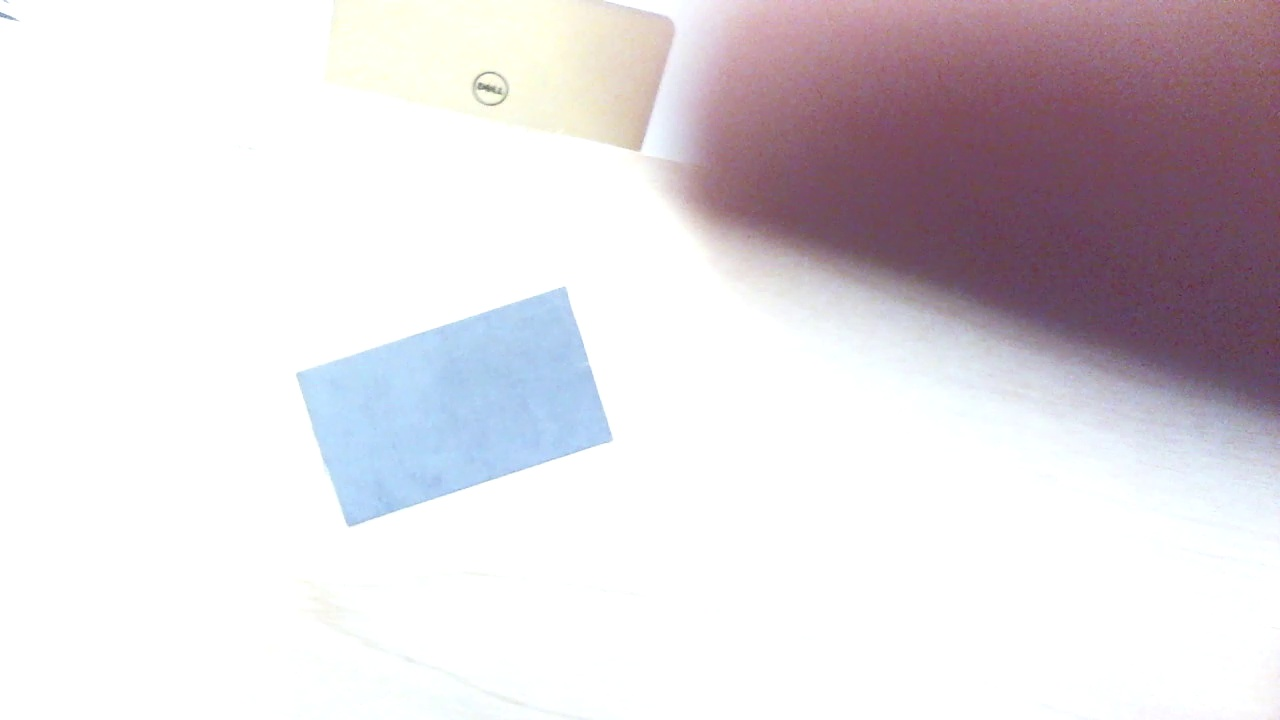Tape: (296, 287, 613, 529)
